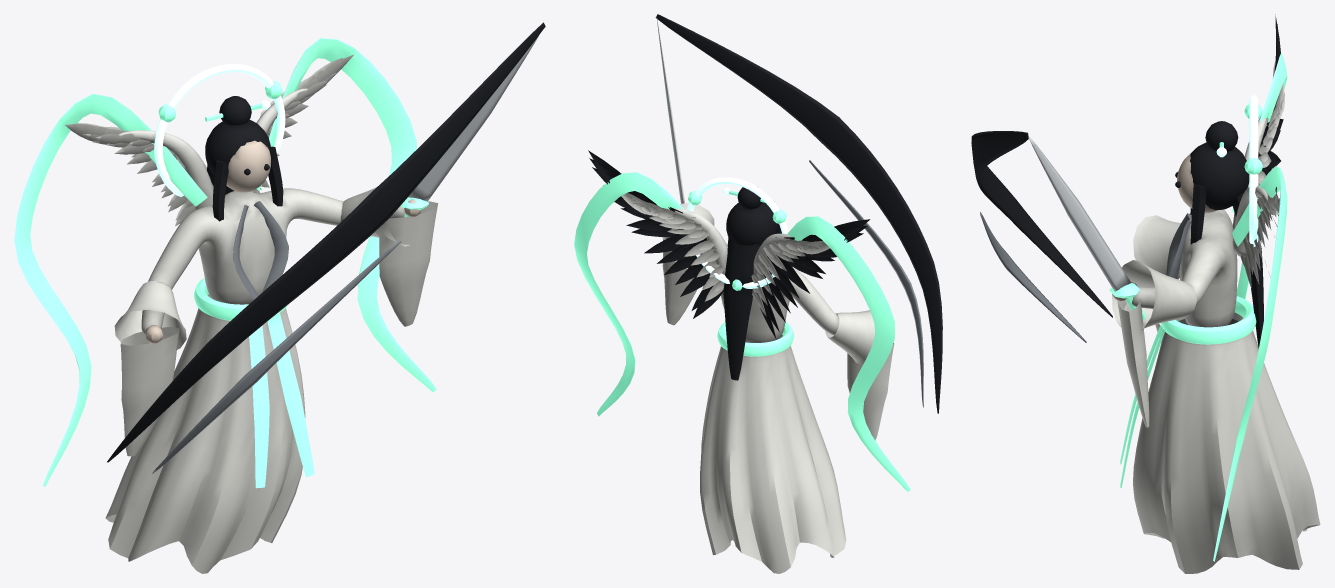
The model's file is ink_blade.glb.
3 views of the same model, side by side, from view 1: azimuth 30°, elevation 25°; view 2: azimuth 150°, elevation 25°; view 3: azimuth 270°, elevation 25° (orthographic). The views are drawn at different scales.
Parts seen in each view (by area): view 1: body, wing_L_a, spin_z_halo, wing_R_a; view 2: body, wing_R_a, wing_L_a, spin_z_halo; view 3: body, wing_R_a, wing_L_a, spin_z_halo.
Part boxes in pixels (x1,y1,x2,y2): body: (14,22,545,573); wing_L_a: (65,123,213,226); spin_z_halo: (154,64,285,196); wing_R_a: (251,54,353,193); body: (574,14,942,573); wing_R_a: (588,150,727,318); wing_L_a: (751,219,870,338); spin_z_halo: (687,177,788,290); body: (971,53,1320,573); wing_R_a: (1232,185,1279,288); wing_L_a: (1232,14,1284,229); spin_z_halo: (1244,95,1262,246).
Bounding box in the file's own units: 1.83 × 2.23 × 1.31.
